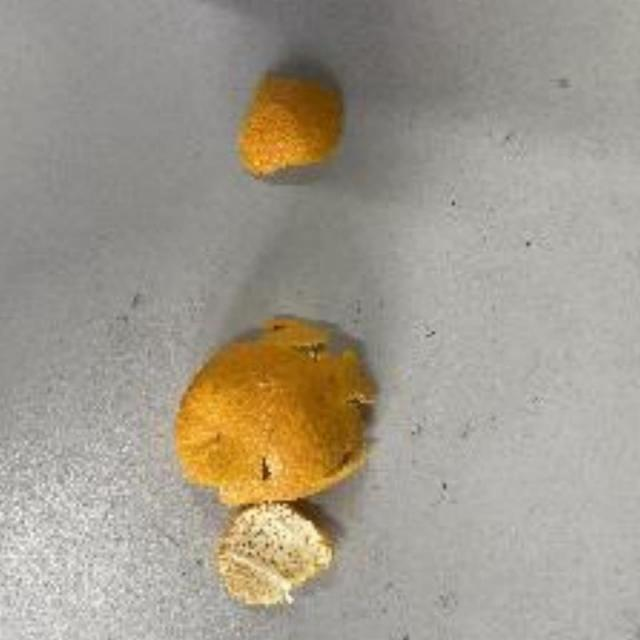orange peel: (166, 310, 390, 613), (224, 68, 357, 178)
